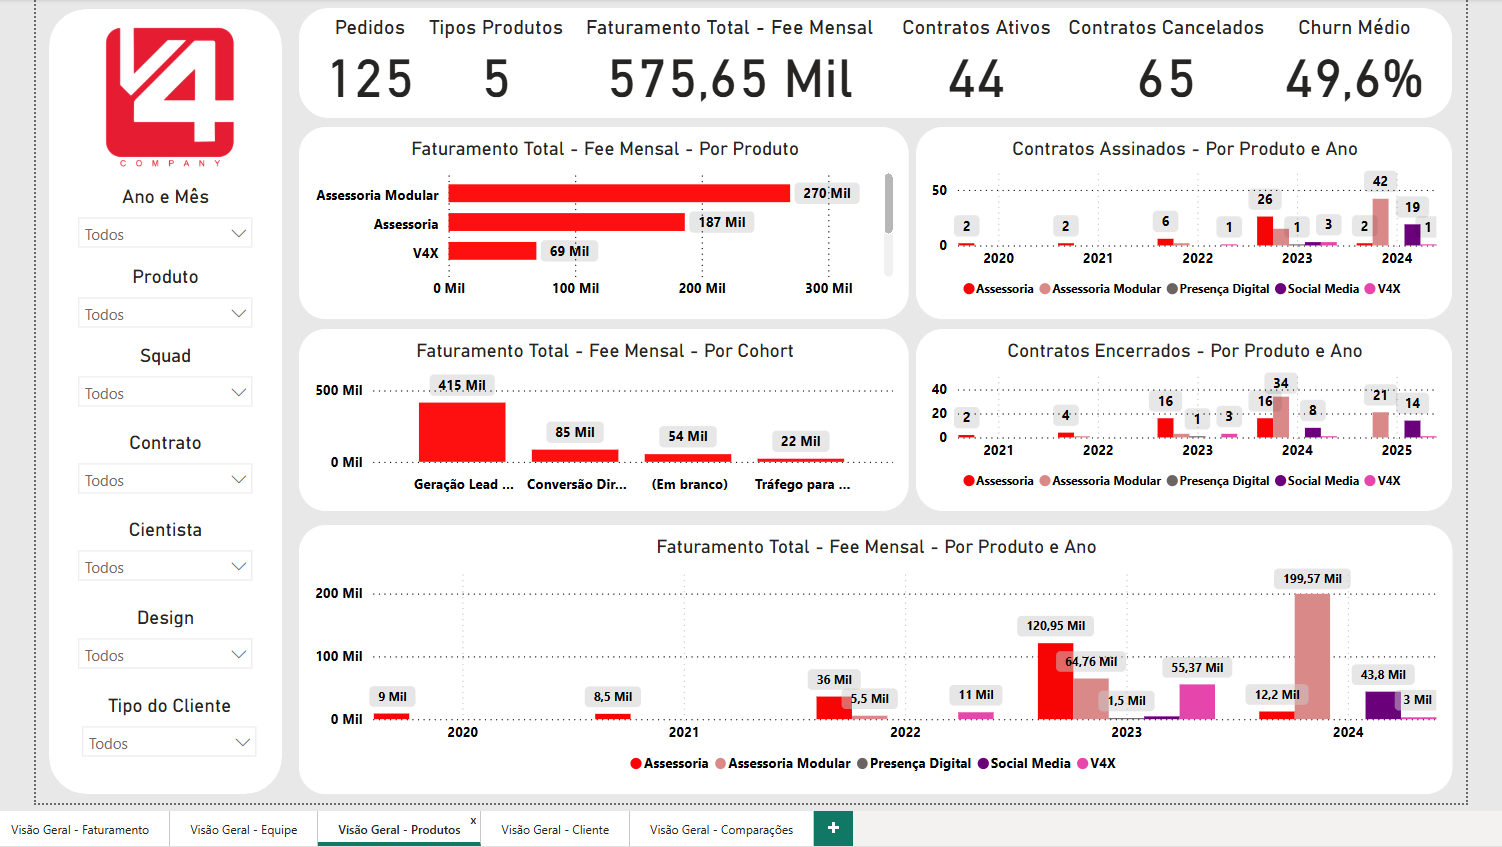

What the dashboard file says about the page in this screenshot:
{"tool":"powerbi","page":{"name":"Visão Geral - Produtos","canvas":[1280,720],"ordinal":2},"visuals":[{"type":"shape","box":[11.6,9,208.7,703],"z":0},{"type":"shape","box":[235.5,8.1,1032.5,98.5],"z":1000},{"type":"card","title":"Faturamento Total - Fee Mensal","fields":{"Values":["Sum(Sheet1.Fee Mensal)"]},"box":[474.6,14.3,292.8,85.1],"z":2000},{"type":"card","title":"Contratos Ativos","fields":{"Values":["CountNonNull(Sheet1.situacao)"]},"box":[767.5,14.3,149.6,85.1],"z":3000},{"type":"image","box":[40.3,14.3,159.4,146.9],"z":4000},{"type":"clusteredColumnChart","title":"Faturamento Total - Fee Mensal - Por Produto e Ano","fields":{"Y":["Sum(Sheet1.Fee Mensal)"],"Category":["Sheet1.Data da Assinatura .Variation.Hierarquia de datas.Ano"],"Series":["Sheet1.Produto"]},"box":[235.5,471,1032.5,240.9],"z":5000},{"type":"slicer","title":"Ano e Mês","fields":{"Values":["Sheet1.Data da Assinatura .Variation.Hierarquia de datas.Ano","Sheet1.Data da Assinatura .Variation.Hierarquia de datas.Mês"]},"box":[27.8,166.6,176.4,71.6],"z":6000},{"type":"slicer","title":"Squad","fields":{"Values":["Sheet1.Squad"]},"box":[27.8,309,176.4,77.9],"z":7000},{"type":"slicer","title":"Produto","fields":{"Values":["Sheet1.Produto"]},"box":[27.8,238.2,176.4,70.7],"z":8000},{"type":"columnChart","title":"Faturamento Total - Fee Mensal - Por Cohort","fields":{"Y":["Sum(Sheet1.Fee Mensal)"],"Category":["Sheet1.Cohort"]},"box":[235.5,295.5,546.3,163],"z":9000},{"type":"barChart","title":"Faturamento Total - Fee Mensal - Por Produto","fields":{"Y":["Sum(Sheet1.Fee Mensal)"],"Category":["Sheet1.Produto"]},"box":[235.5,114.6,546.3,171.9],"z":10000},{"type":"slicer","title":"Contrato","fields":{"Values":["Sheet1.situacao"]},"box":[27.8,386.9,176.4,77.9],"z":11000},{"type":"slicer","title":"Cientista","fields":{"Values":["Sheet1.Cientista"]},"box":[27.8,464.8,176.4,78.8],"z":12000},{"type":"slicer","title":"Design","fields":{"Values":["Sheet1.Designer"]},"box":[27.8,543.6,176.4,78.8],"z":13000},{"type":"clusteredColumnChart","title":"Contratos Encerrados - Por Produto e Ano","fields":{"Category":["Sheet1.datafimcontrato.Variation.Hierarquia de datas.Ano"],"Y":["CountNonNull(Sheet1.datafimcontrato)"],"Series":["Sheet1.Produto"]},"box":[788.1,295.5,480,163],"z":14000},{"type":"clusteredColumnChart","title":"Contratos Assinados - Por Produto e Ano","fields":{"Category":["Sheet1.Data da Assinatura .Variation.Hierarquia de datas.Ano"],"Y":["CountNonNull(Sheet1.Data da Assinatura )"],"Series":["Sheet1.Produto"]},"box":[788.1,114.6,480,171.9],"z":15000},{"type":"card","title":"Contratos Cancelados","fields":{"Values":["CountNonNull(Sheet1.situacao)"]},"box":[917,14.3,190.7,85.1],"z":16000},{"type":"card","title":"Pedidos","fields":{"Values":["CountNonNull(Sheet1.Clientes)"]},"box":[248.1,14.3,102.1,85.1],"z":17000},{"type":"card","title":"Churn Médio","fields":{"Values":["Sheet1.Medida"]},"box":[1107.8,14.3,146,85.1],"z":18000},{"type":"slicer","title":"Tipo do Cliente","fields":{"Values":["Sheet1.Faturamento"]},"box":[31.3,622.4,176.4,78.8],"z":19000},{"type":"card","title":"Tipos Produtos","fields":{"Values":["Count(Sheet1.Produto)"]},"box":[343,14.3,137.9,85.1],"z":20000}]}

Visuals, with their boxes on the page's 1280x720 design canvas (x1, y1, x2, y2). These are canvas units, not pixel positions in the 1502x847 screenshot, which may show the page scaled, cropped or inside an application window:
shape: locate(12, 9, 220, 712)
shape: locate(236, 8, 1268, 107)
"Faturamento Total - Fee Mensal" card: locate(475, 14, 767, 99)
"Contratos Ativos" card: locate(768, 14, 917, 99)
image: locate(40, 14, 200, 161)
"Faturamento Total - Fee Mensal - Por Produto e Ano" clusteredColumnChart: locate(236, 471, 1268, 712)
"Ano e Mês" slicer: locate(28, 167, 204, 238)
"Squad" slicer: locate(28, 309, 204, 387)
"Produto" slicer: locate(28, 238, 204, 309)
"Faturamento Total - Fee Mensal - Por Cohort" columnChart: locate(236, 296, 782, 458)
"Faturamento Total - Fee Mensal - Por Produto" barChart: locate(236, 115, 782, 286)
"Contrato" slicer: locate(28, 387, 204, 465)
"Cientista" slicer: locate(28, 465, 204, 544)
"Design" slicer: locate(28, 544, 204, 622)
"Contratos Encerrados - Por Produto e Ano" clusteredColumnChart: locate(788, 296, 1268, 458)
"Contratos Assinados - Por Produto e Ano" clusteredColumnChart: locate(788, 115, 1268, 286)
"Contratos Cancelados" card: locate(917, 14, 1108, 99)
"Pedidos" card: locate(248, 14, 350, 99)
"Churn Médio" card: locate(1108, 14, 1254, 99)
"Tipo do Cliente" slicer: locate(31, 622, 208, 701)
"Tipos Produtos" card: locate(343, 14, 481, 99)
